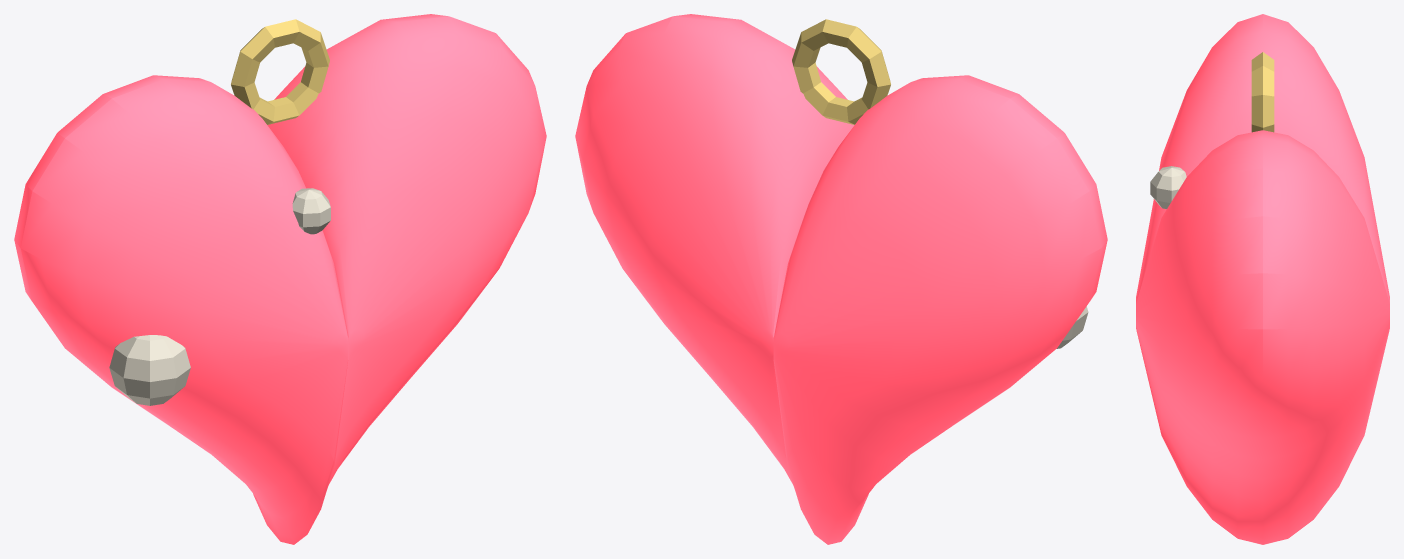
The model's file is ob_heart.glb.
3 views of the same model, side by side, from view 1: azimuth 30°, elevation 25°; view 2: azimuth 150°, elevation 25°; view 3: azimuth 270°, elevation 25° (orthographic). The views are drawn at different scales.
Visible parts, largest first — view 1: body/ruby, body/bone, body/gold; view 2: body/ruby, body/gold; view 3: body/ruby, body/gold, body/bone.
Part boxes in pixels (x1,y1,x2,y2): body/ruby: (14, 14, 546, 544); body/bone: (109, 188, 330, 405); body/gold: (231, 19, 329, 124); body/ruby: (575, 14, 1107, 544); body/gold: (792, 19, 890, 124); body/ruby: (1136, 14, 1389, 544); body/gold: (1251, 52, 1274, 132); body/bone: (1150, 166, 1186, 208).
Bounding box in the file's own units: 0.3765 × 0.3593 × 0.17.
